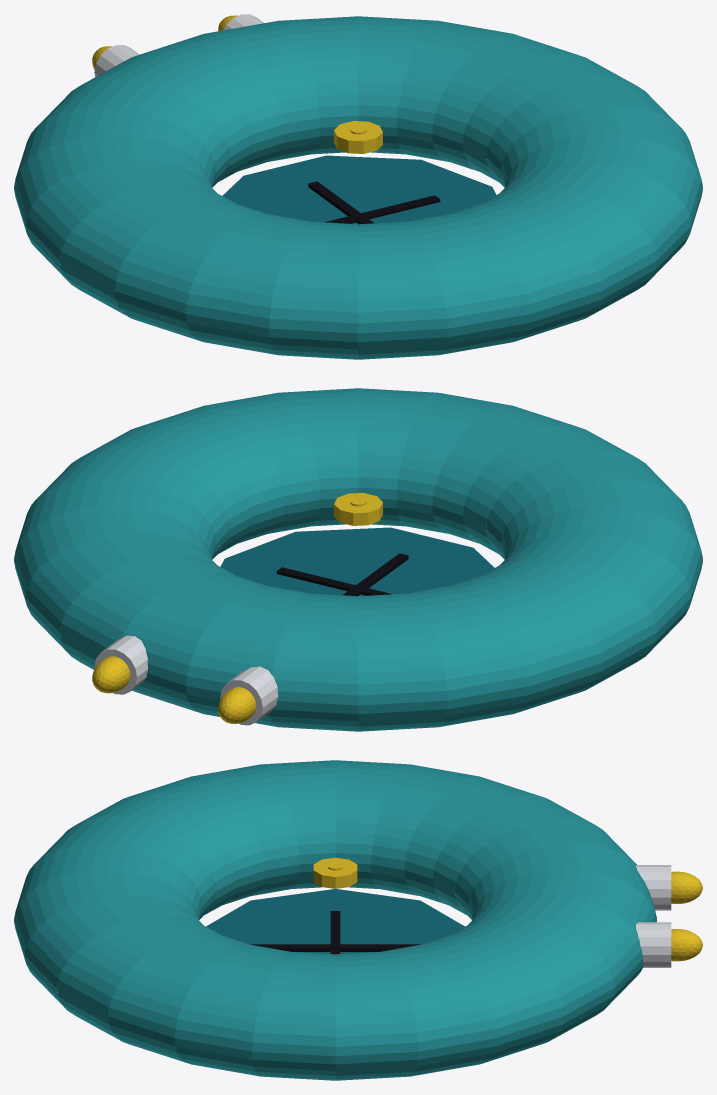
The model's file is veh_tube.glb.
3 views of the same model, one above another, from view 1: azimuth 30°, elevation 25°; view 2: azimuth 150°, elevation 25°; view 3: azimuth 270°, elevation 25° (orthographic). The views are drawn at different scales.
Parts seen in each view (by area): view 1: TUBE_BODY, INNER_FLOOR_PAD, TOP_VALVE_CAP, CROSS_GROOVE_X, REAR_JET_L_NOZZLE, CROSS_GROOVE_Z; view 2: TUBE_BODY, INNER_FLOOR_PAD, REAR_JET_L_NOZZLE, REAR_JET_R_NOZZLE, TOP_VALVE_CAP, REAR_JET_R_FLAME, REAR_JET_L_FLAME, CROSS_GROOVE_X, CROSS_GROOVE_Z; view 3: TUBE_BODY, INNER_FLOOR_PAD, REAR_JET_R_NOZZLE, REAR_JET_L_NOZZLE, TOP_VALVE_CAP, CROSS_GROOVE_Z, REAR_JET_L_FLAME, REAR_JET_R_FLAME.
Part boxes in pixels (box(x1,y1,x2,y2)): TUBE_BODY: box(14, 16, 702, 359); INNER_FLOOR_PAD: box(222, 155, 496, 224); TOP_VALVE_CAP: box(334, 121, 382, 153); CROSS_GROOVE_X: box(325, 195, 440, 223); REAR_JET_L_NOZZLE: box(94, 45, 139, 76); CROSS_GROOVE_Z: box(308, 181, 374, 224); TUBE_BODY: box(14, 388, 702, 731); INNER_FLOOR_PAD: box(220, 527, 494, 596); REAR_JET_L_NOZZLE: box(220, 666, 278, 725); REAR_JET_R_NOZZLE: box(94, 635, 147, 694); TOP_VALVE_CAP: box(334, 493, 382, 525); REAR_JET_R_FLAME: box(92, 656, 130, 693); REAR_JET_L_FLAME: box(218, 687, 256, 723); CROSS_GROOVE_X: box(276, 567, 391, 595); CROSS_GROOVE_Z: box(342, 553, 408, 596); TUBE_BODY: box(14, 760, 656, 1080); INNER_FLOOR_PAD: box(206, 889, 464, 953); REAR_JET_R_NOZZLE: box(636, 922, 671, 967); REAR_JET_L_NOZZLE: box(636, 865, 671, 910); TOP_VALVE_CAP: box(313, 857, 357, 888); CROSS_GROOVE_Z: box(250, 944, 420, 951); REAR_JET_L_FLAME: box(671, 871, 702, 903); REAR_JET_R_FLAME: box(671, 929, 702, 961).
Size of the model in its own units: 2.94 by 0.5279 by 3.15.
